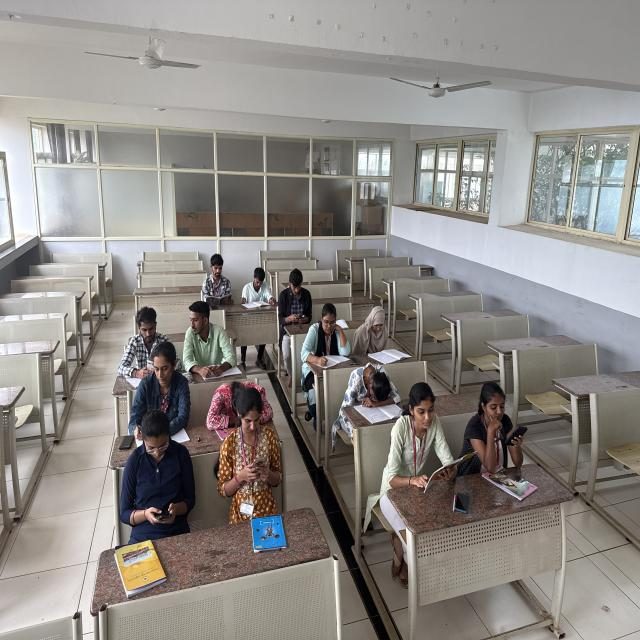Reading: (391, 368, 474, 497), (201, 248, 239, 312)
Sleeping: (201, 376, 282, 434), (339, 345, 396, 418)
Using Phone: (118, 408, 207, 542), (214, 386, 297, 509), (457, 358, 537, 463), (124, 294, 178, 384), (278, 266, 315, 340)
Writing: (132, 344, 191, 444), (308, 307, 357, 383), (238, 261, 278, 316)
